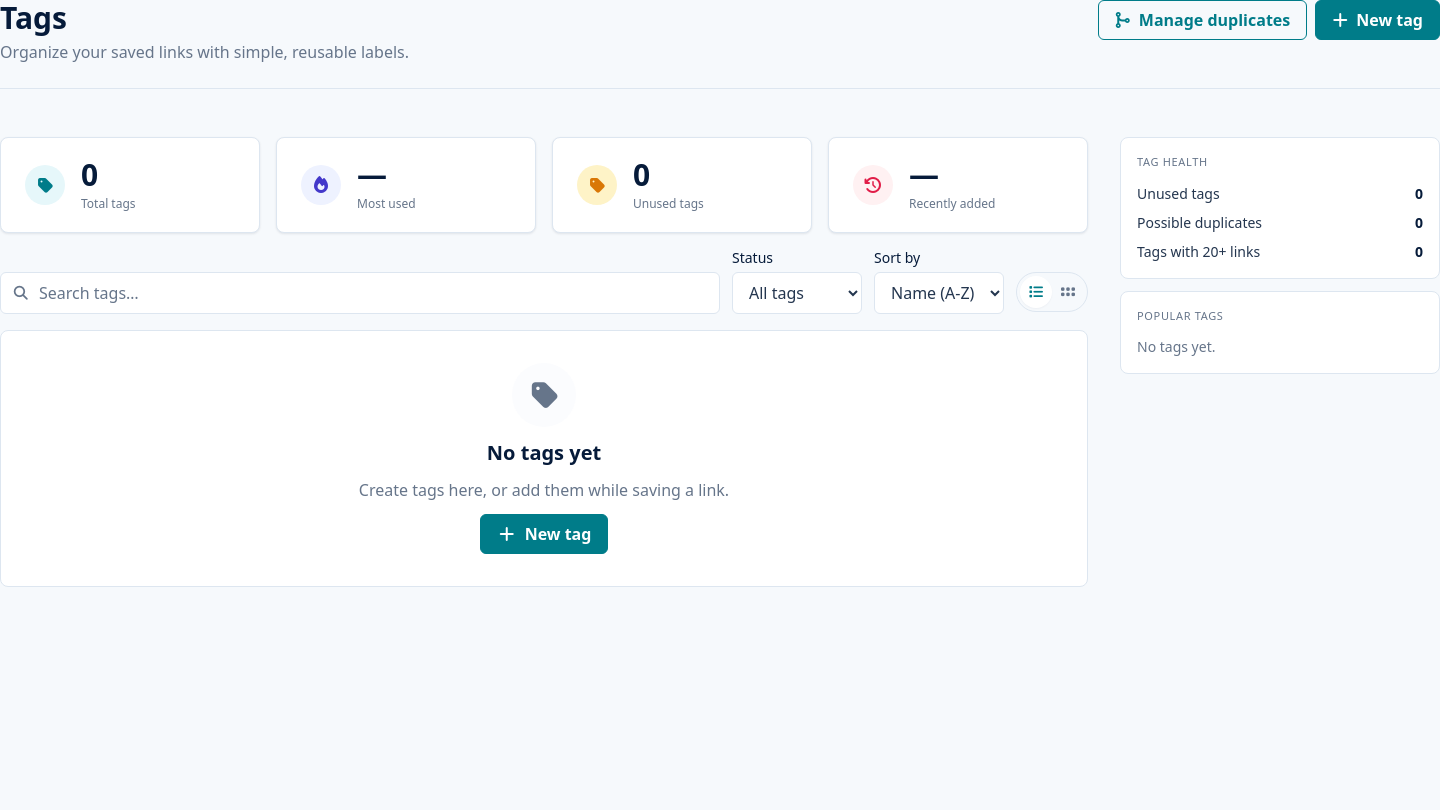
Test: TagsPageComponent › opens the new tag modal when New tag is clicked
Click the 1st button with class "fav-btn--primary".
click(1378, 20)  # box [1315,0,1439,40]
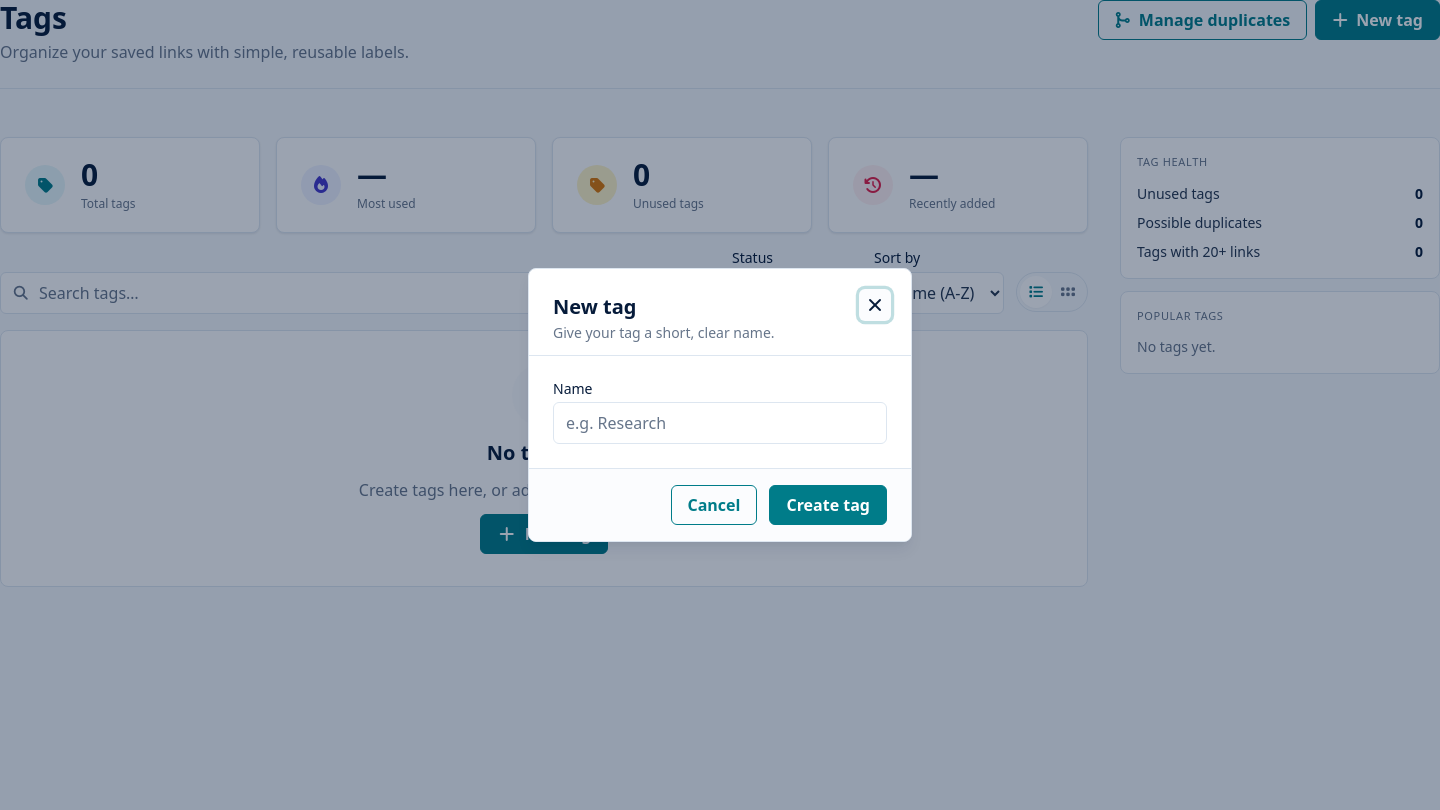
Expected: the text "New tag" is shown, [1356,12,1423,28]
Expected: the dialog is shown, [528,268,912,542]
